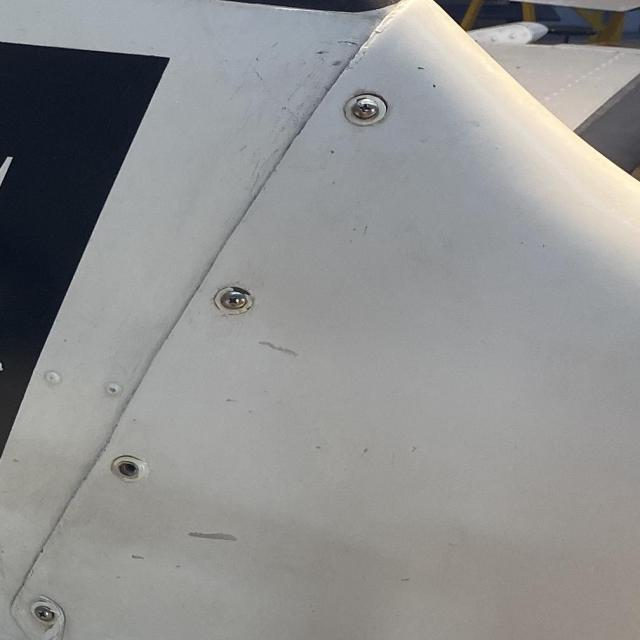Missing-head: (109, 455, 147, 482)
Paint-off: (261, 340, 300, 357), (189, 531, 239, 543), (129, 550, 148, 565)
